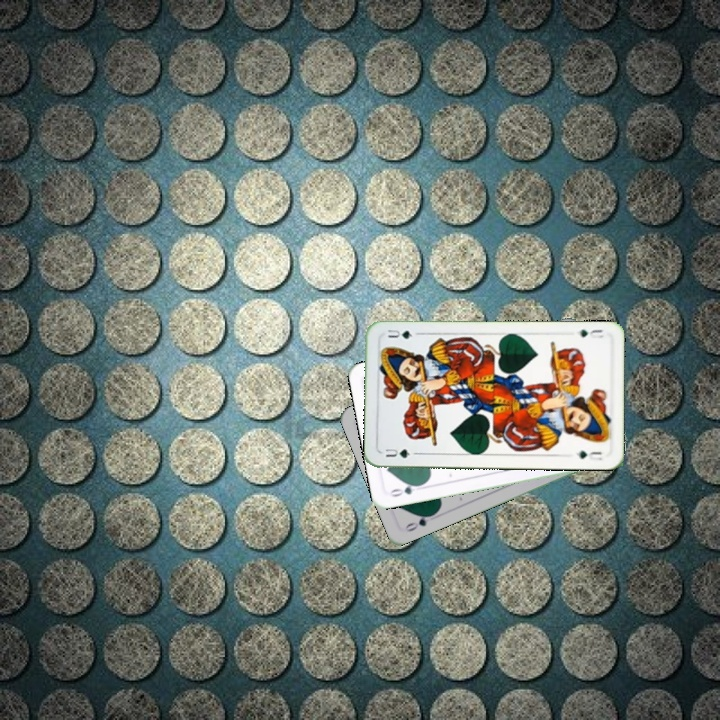GO: (400, 509, 438, 534), (387, 480, 425, 499)
GU: (575, 325, 606, 341), (381, 445, 413, 460)
